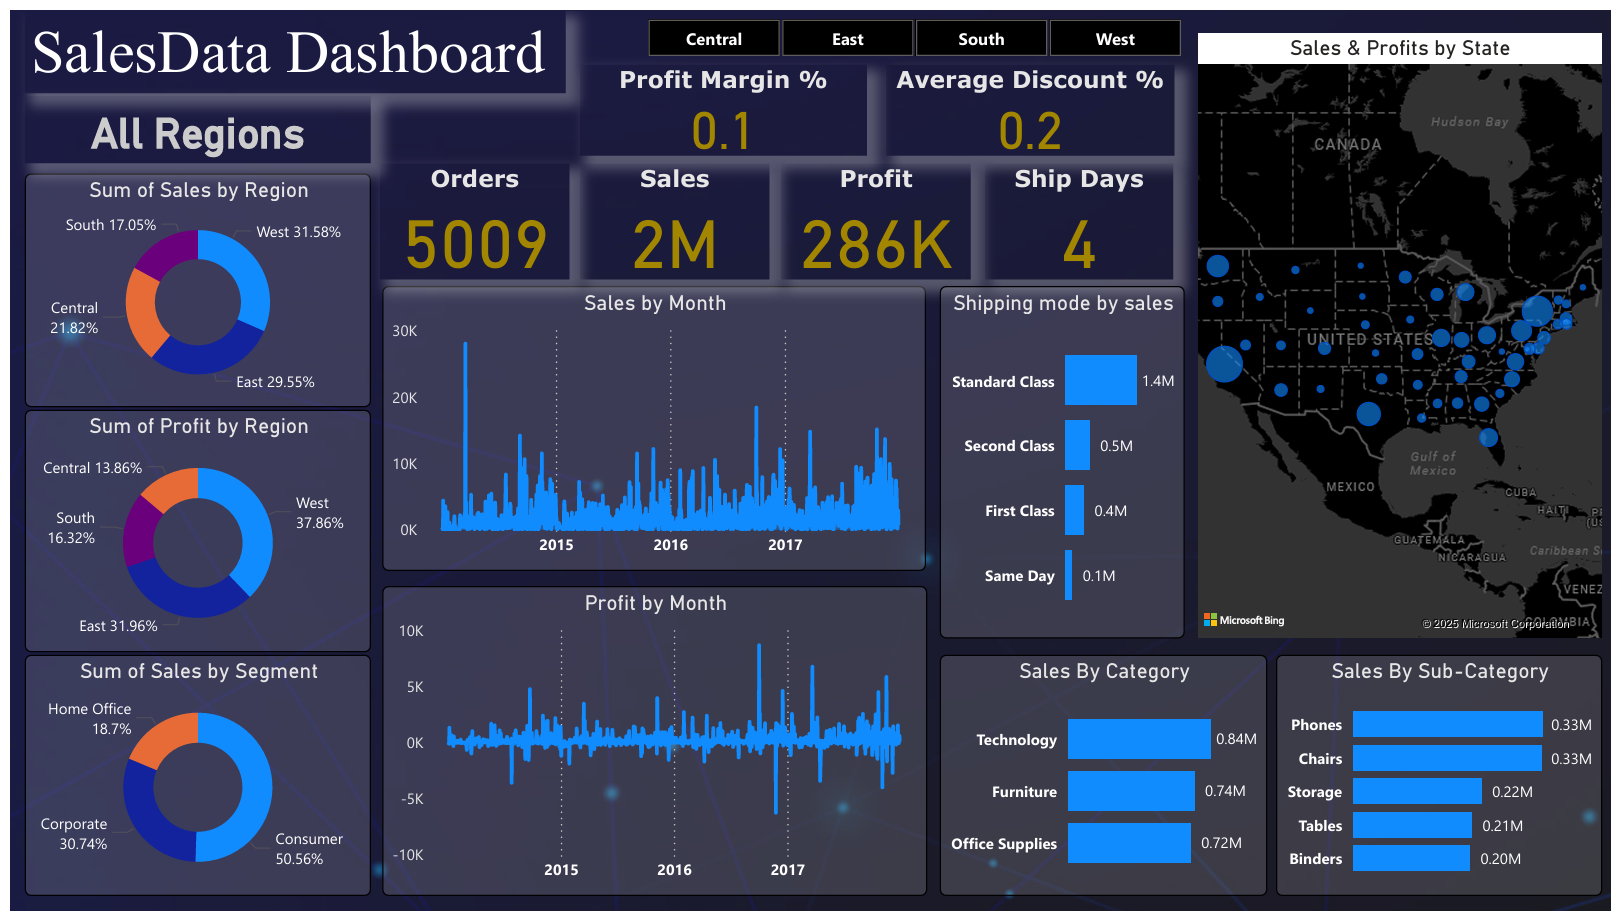

What the dashboard file says about the page in this screenshot:
{"tool":"powerbi","page":{"name":"Dashboard","canvas":[1280,720],"ordinal":0},"visuals":[{"type":"slicer","fields":{"Values":["Sample - Superstore.Region"]},"box":[484.4,0,475.6,42.7],"z":0},{"type":"map","title":"Sales & Profits by State","fields":{"Size":["Sum(SalesData.Sales)"],"Category":["SalesData.State"]},"box":[950.3,18.5,322.9,483.4],"z":1000},{"type":"textbox","box":[10.7,0,433.8,65.8],"z":2000},{"type":"barChart","title":"Sales By Category","fields":{"Y":["Sum(Sample - Superstore.Sales)"],"Category":["Sample - Superstore.Category"]},"box":[743.1,514.5,261.6,193.6],"z":3000},{"type":"barChart","title":"Sales By Sub-Category","fields":{"Y":["Sum(Sample - Superstore.Sales)"],"Category":["Sample - Superstore.Sub-Category"]},"box":[1011.6,514.5,261.6,193.6],"z":4000},{"type":"donutChart","fields":{"Y":["Sum(Sample - Superstore.Sales)"],"Category":["Sample - Superstore.Region"]},"box":[10.7,129.8,277.3,187.6],"z":5000},{"type":"stackedAreaChart","title":"Sales by Month","fields":{"Y":["Sum(Sample - Superstore.Sales)"],"Category":["SalesData.Order Date"]},"box":[296.7,219.8,435.7,228.6],"z":6000},{"type":"stackedAreaChart","title":"Profit by Month","fields":{"Category":["SalesData.Order Date"],"Y":["Sum(SalesData.Profit)"]},"box":[296.7,460.1,436.7,248],"z":7000},{"type":"donutChart","fields":{"Category":["Sample - Superstore.Region"],"Y":["Sum(Sample - Superstore.Profit)"]},"box":[10.7,319.1,277.2,194],"z":8000},{"type":"donutChart","fields":{"Y":["Sum(Sample - Superstore.Sales)"],"Category":["Sample - Superstore.Segment"]},"box":[10.7,514.5,277.2,193.6],"z":9000},{"type":"card","title":"Sales","fields":{"Values":["SalesData.TotalSales"]},"box":[454.8,121.7,152.7,93.4],"z":10000},{"type":"card","title":"Orders","fields":{"Values":["SalesData.TotalOrders"]},"box":[295.2,121.7,152,93.3],"z":11000},{"type":"card","title":"Profit","fields":{"Values":["SalesData.TotalProfit"]},"box":[616.2,121.7,151.7,93.4],"z":12000},{"type":"card","title":"Ship Days","fields":{"Values":["Avg(SalesData.DelieveryTime)"]},"box":[778.7,121.7,151.7,93.4],"z":13000},{"type":"barChart","title":"Shipping mode by sales","fields":{"Category":["SalesData.Ship Mode"],"Y":["Sum(SalesData.Sales)"]},"box":[743.1,219.8,195.5,282.1],"z":14000},{"type":"card","title":"Profit Margin %","fields":{"Values":["SalesData.ProfitMargin %"]},"box":[455.1,42.7,230.2,73.8],"z":15000},{"type":"card","title":"Average Discount %","fields":{"Values":["SalesData.AverageDiscount"]},"box":[700.4,42.7,230.2,73.8],"z":16000},{"type":"card","title":"Profit Margin %","fields":{"Values":["SalesData.SelectedRegion"]},"box":[10.7,67.6,277.3,54.2],"z":17000}]}

Visuals, with their boxes in screenshot pixels (x1, y1, x2, y2), scaled from the page's 1280x720 canvas onto the 1621x920 screenshot:
slicer - Sample - Superstore.Region: (613,0,1216,55)
"Sales & Profits by State" map: (1203,24,1612,641)
textbox: (14,0,563,84)
"Sales By Category" barChart: (941,657,1272,905)
"Sales By Sub-Category" barChart: (1281,657,1612,905)
donutChart - Sum(Sample - Superstore.Sales) x Sample - Superstore.Region: (14,166,365,406)
"Sales by Month" stackedAreaChart: (376,281,928,573)
"Profit by Month" stackedAreaChart: (376,588,929,905)
donutChart - Sample - Superstore.Region x Sum(Sample - Superstore.Profit): (14,408,365,656)
donutChart - Sum(Sample - Superstore.Sales) x Sample - Superstore.Segment: (14,657,365,905)
"Sales" card: (576,156,769,275)
"Orders" card: (374,156,566,275)
"Profit" card: (780,156,972,275)
"Ship Days" card: (986,156,1178,275)
"Shipping mode by sales" barChart: (941,281,1189,641)
"Profit Margin %" card: (576,55,868,149)
"Average Discount %" card: (887,55,1179,149)
"Profit Margin %" card: (14,86,365,156)
